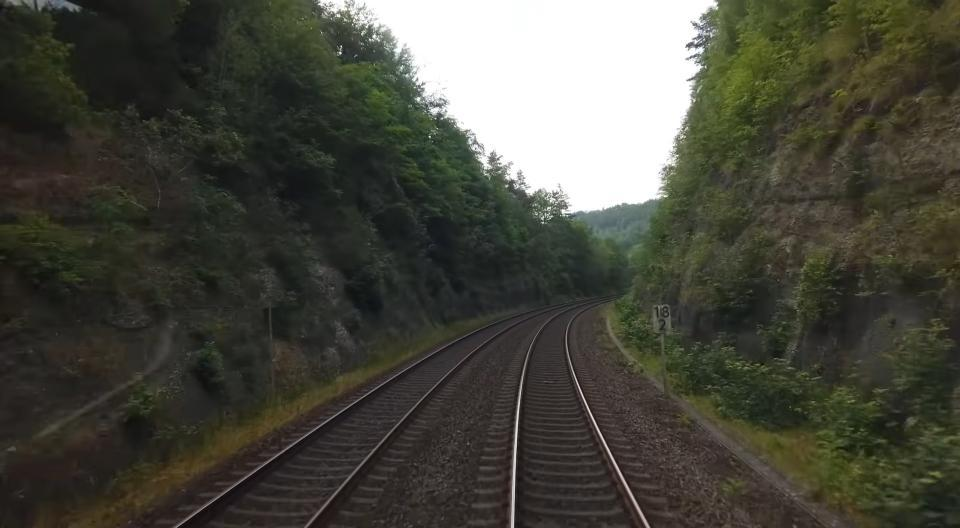Plant: (721, 478, 748, 505)
